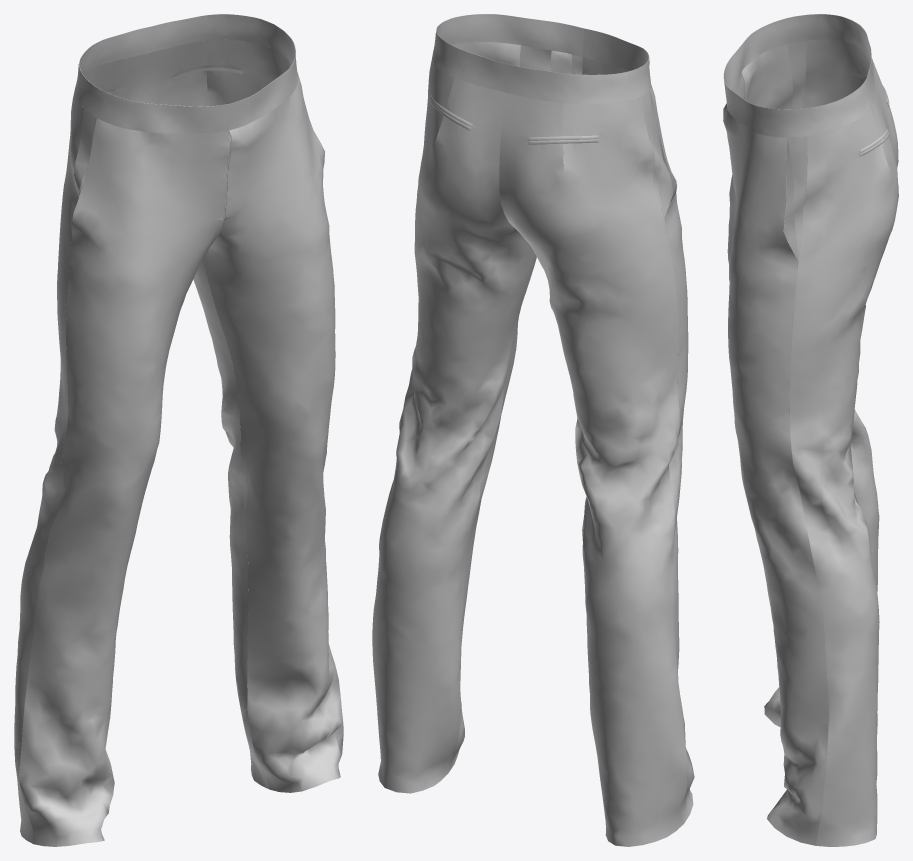
File: trousers.glb
3 views of the same model, side by side, from view 1: azimuth 30°, elevation 25°; view 2: azimuth 150°, elevation 25°; view 3: azimuth 270°, elevation 25° (orthographic). The views are drawn at different scales.
Parts seen in each view (by area): view 1: Pattern2D_1439306, Pattern2D_1438298, Pattern2D_762798, Pattern2D_762026, Pattern2D_787193, Pattern2D_787876, Pattern2D_1439307; view 2: Pattern2D_762026, Pattern2D_762798, Pattern2D_787876, Pattern2D_787193, Pattern2D_1439306, Pattern2D_1438298, Pattern2D_1439307, Pattern2D_1434309, Pattern2D_1249554; view 3: Pattern2D_762798, Pattern2D_1438298, Pattern2D_762026, Pattern2D_787876, Pattern2D_787193, Pattern2D_1439307, Pattern2D_1434309, Pattern2D_1439306.
Boxes of the visible parts, bbox=[...] form: Pattern2D_1439306: bbox=[19, 118, 229, 846]; Pattern2D_1438298: bbox=[203, 73, 343, 792]; Pattern2D_762798: bbox=[143, 39, 289, 788]; Pattern2D_762026: bbox=[14, 53, 150, 843]; Pattern2D_787193: bbox=[75, 26, 230, 133]; Pattern2D_787876: bbox=[150, 14, 298, 130]; Pattern2D_1439307: bbox=[71, 109, 96, 242]; Pattern2D_762026: bbox=[499, 93, 687, 846]; Pattern2D_762798: bbox=[372, 57, 536, 793]; Pattern2D_787876: bbox=[432, 14, 583, 92]; Pattern2D_787193: bbox=[507, 28, 651, 104]; Pattern2D_1439306: bbox=[582, 57, 694, 823]; Pattern2D_1438298: bbox=[448, 42, 551, 772]; Pattern2D_1439307: bbox=[642, 91, 672, 217]; Pattern2D_1434309: bbox=[452, 42, 520, 66]; Pattern2D_1249554: bbox=[550, 50, 582, 74]; Pattern2D_762798: bbox=[789, 84, 898, 846]; Pattern2D_1438298: bbox=[723, 103, 828, 845]; Pattern2D_762026: bbox=[802, 39, 898, 591]; Pattern2D_787876: bbox=[723, 57, 874, 137]; Pattern2D_787193: bbox=[723, 14, 874, 89]; Pattern2D_1439307: bbox=[741, 40, 806, 109]; Pattern2D_1434309: bbox=[769, 136, 807, 260]; Pattern2D_1439306: bbox=[727, 73, 780, 727].
Bounding box in the file's own units: 1.42 × 3.3 × 0.722.
Materials: 14 (14 with a texture image).
